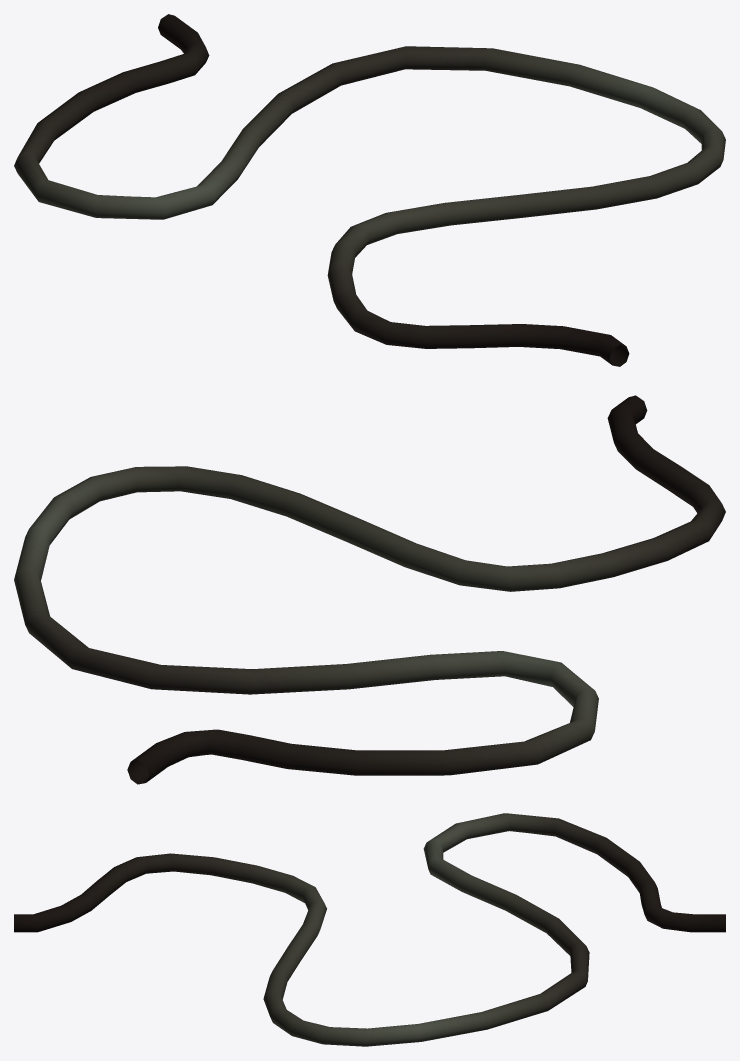
The model's file is 2MStraightCable.fbx.
The picture shows the model from 3 angles, top to bottom: view 1: azimuth 30°, elevation 25°; view 2: azimuth 150°, elevation 25°; view 3: azimuth 270°, elevation 25°; orthographic projection. The views are drawn at different scales.
Parts seen in each view (by area): view 1: TwoMeterCable; view 2: TwoMeterCable; view 3: TwoMeterCable.
Part boxes in pixels (bbox=[...]): TwoMeterCable: bbox=[14, 14, 725, 366]; TwoMeterCable: bbox=[14, 395, 725, 784]; TwoMeterCable: bbox=[14, 813, 725, 1046].
Bounding box in the file's own units: 148 × 5.45 × 200.
